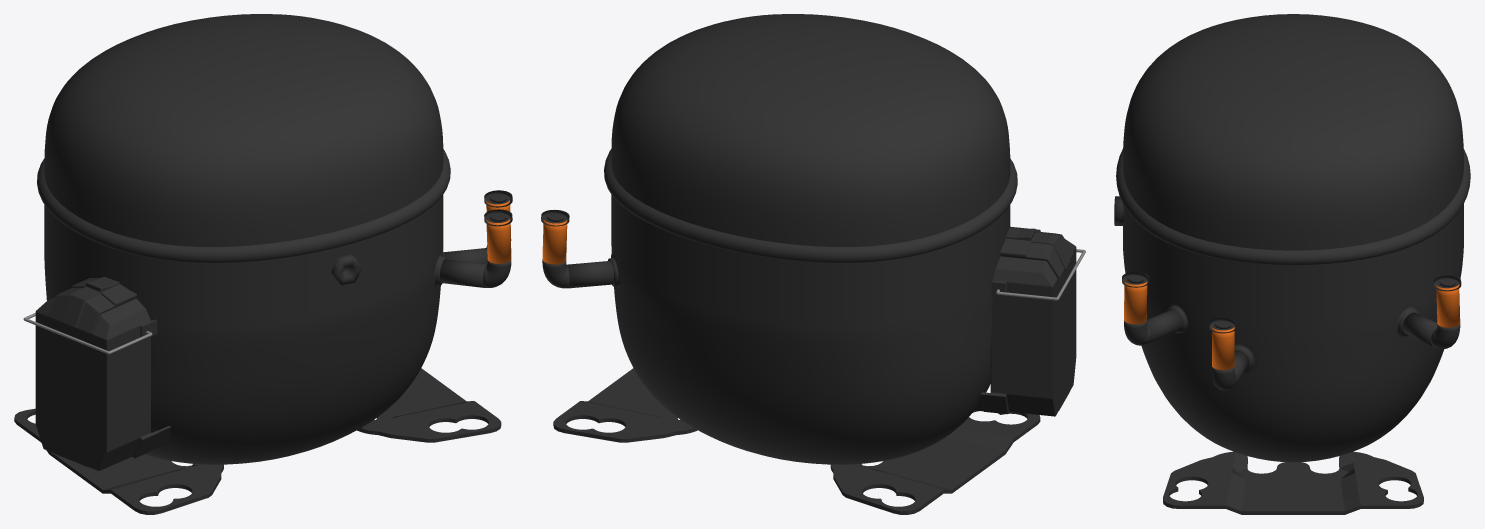
File: compresor-armario-2-puertas.glb
3 renders of one model, left to right at view 1: azimuth 30°, elevation 25°; view 2: azimuth 150°, elevation 25°; view 3: azimuth 270°, elevation 25°, orthographic. The views are drawn at different scales.
Parts seen in each view (by area): view 1: Cube.001, Cube, Cube.007, Cube.008; view 2: Cube.001, Cube, Cube.004; view 3: Cube.001, Cube, Cube.007, Cube.004, Cube.008, Cylinder.001, Cylinder.
Part boxes in pixels (<box>): Cube.001: <box>37,14,450,464</box>; Cube: <box>14,254,501,514</box>; Cube.007: <box>439,209,512,287</box>; Cube.008: <box>443,190,512,264</box>; Cube.001: <box>604,14,1017,464</box>; Cube: <box>553,226,1085,514</box>; Cube.004: <box>541,210,613,288</box>; Cube.001: <box>1116,14,1470,462</box>; Cube: <box>1114,196,1423,514</box>; Cube.007: <box>1122,272,1182,345</box>; Cube.004: <box>1402,275,1461,348</box>; Cube.008: <box>1209,318,1249,390</box>; Cylinder.001: <box>1164,301,1191,336</box>; Cylinder: <box>1394,304,1420,339</box>.
Bounding box in the file's own units: 0.2599 × 0.2079 × 0.1799.
